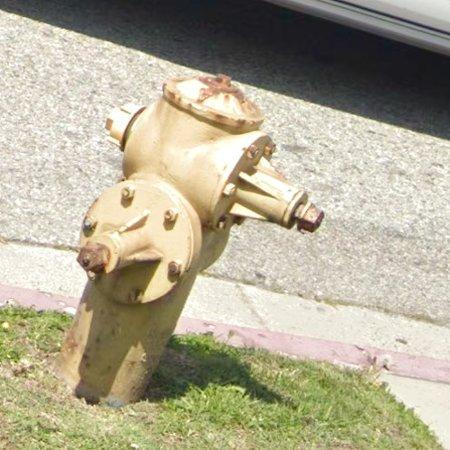a fire hydrant: (57, 76, 324, 405)
